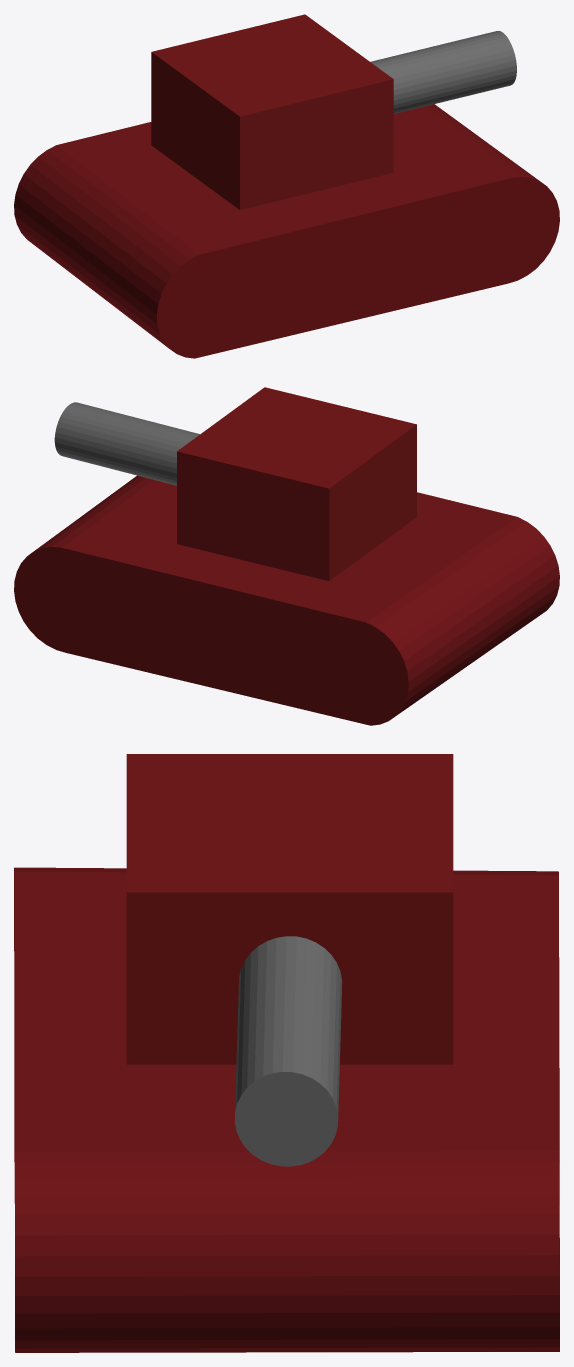
Rendered from enemytank.fbx.
3 renders of one model, top to bottom at view 1: azimuth 30°, elevation 25°; view 2: azimuth 150°, elevation 25°; view 3: azimuth 270°, elevation 25°, orthographic. The views are drawn at different scales.
Visible parts, largest first — view 1: Cylinder.001; view 2: Cylinder.001; view 3: Cylinder.001.
Part boxes in pixels (x1,y1,x2,y2): Cylinder.001: [14, 14, 559, 358]; Cylinder.001: [14, 387, 559, 725]; Cylinder.001: [14, 754, 559, 1352].
Bounding box in the file's own units: 841 × 386 × 511.
